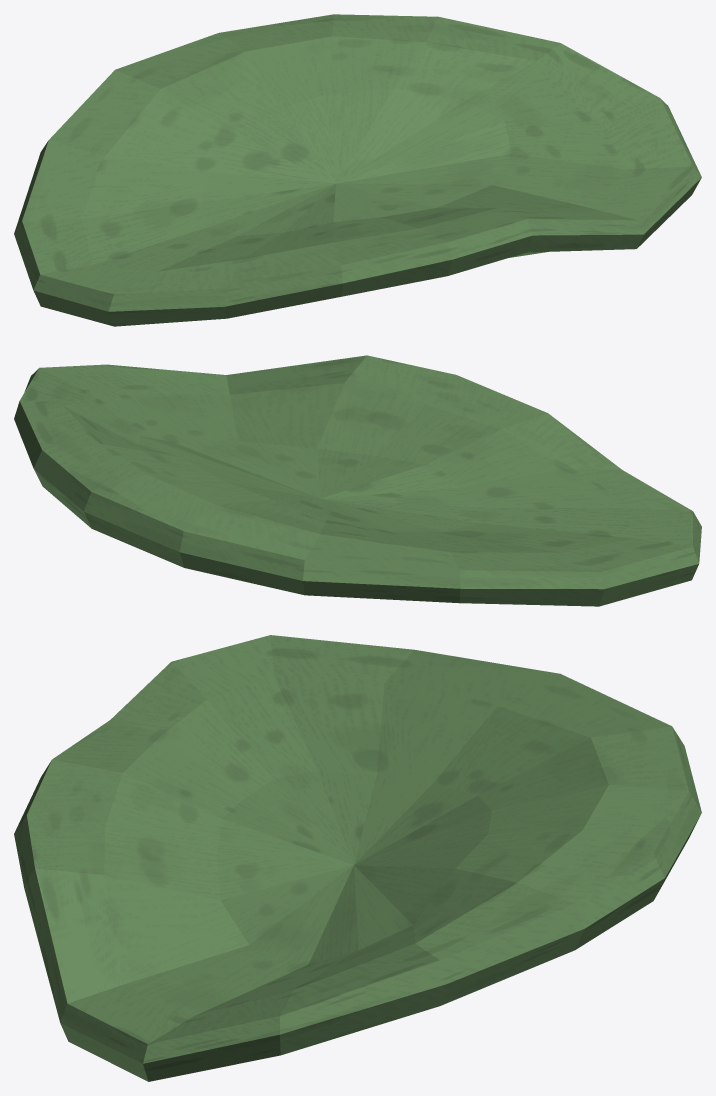
File: Grass1.fbx
The picture shows the model from 3 angles, top to bottom: view 1: azimuth 30°, elevation 25°; view 2: azimuth 150°, elevation 25°; view 3: azimuth 270°, elevation 25°; orthographic projection. The views are drawn at different scales.
Parts seen in each view (by area): view 1: grass1; view 2: grass1; view 3: grass1.
Part boxes in pixels (left/top/right/bottom): grass1: left=14, top=14, right=701, bottom=326; grass1: left=14, top=355, right=701, bottom=606; grass1: left=14, top=635, right=701, bottom=1081.
Bounding box in the file's own units: 1451 × 239 × 1004.
